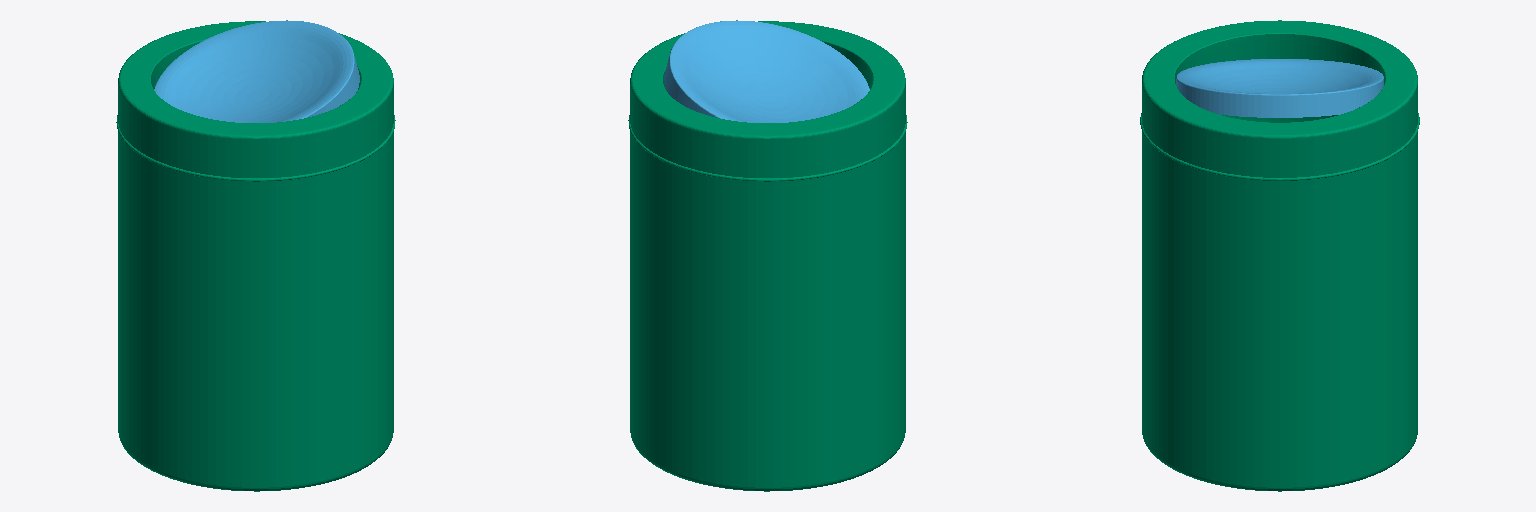
URDF robot description (partnet_1b7d468a27208ee3dad910e221d16b18):
<?xml version="1.0" ?>
<robot name="partnet_1b7d468a27208ee3dad910e221d16b18">
	<link name="base"/>
	<link name="link_0">
		<visual name="cover_lid-5">
			<origin xyz="0.011088999999999988 -0.7329289999999999 0"/>
			<geometry>
				<mesh filename="textured_objs/original-2.obj"/>
			</geometry>
		</visual>
		<visual name="cover_support-6">
			<origin xyz="0.011088999999999988 -0.7329289999999999 0"/>
			<geometry>
				<mesh filename="textured_objs/original-1.obj"/>
			</geometry>
		</visual>
		<collision>
			<origin xyz="0.011088999999999988 -0.7329289999999999 0"/>
			<geometry>
				<mesh filename="textured_objs/original-2.obj"/>
			</geometry>
		</collision>
		<collision>
			<origin xyz="0.011088999999999988 -0.7329289999999999 0"/>
			<geometry>
				<mesh filename="textured_objs/original-1.obj"/>
			</geometry>
		</collision>
	</link>
	<joint name="joint_0" type="revolute">
		<origin xyz="-0.011088999999999988 0.7329289999999999 0"/>
		<axis xyz="1 0 0"/>
		<child link="link_0"/>
		<parent link="link_1"/>
		<limit lower="-1.8221237390820801" upper="1.2252211349000193"/>
	</joint>
	<link name="link_1">
		<visual name="container_box-3">
			<origin xyz="0 0 0"/>
			<geometry>
				<mesh filename="textured_objs/new-1.obj"/>
			</geometry>
		</visual>
		<visual name="container_bottom-4">
			<origin xyz="0 0 0"/>
			<geometry>
				<mesh filename="textured_objs/new-0.obj"/>
			</geometry>
		</visual>
		<collision>
			<origin xyz="0 0 0"/>
			<geometry>
				<mesh filename="textured_objs/new-1.obj"/>
			</geometry>
		</collision>
		<collision>
			<origin xyz="0 0 0"/>
			<geometry>
				<mesh filename="textured_objs/new-0.obj"/>
			</geometry>
		</collision>
	</link>
	<joint name="joint_1" type="fixed">
		<origin rpy="1.570796326794897 0 -1.570796326794897" xyz="0 0 0"/>
		<child link="link_1"/>
		<parent link="base"/>
	</joint>
</robot>

--- What the picture shows (computed from the rendered views, not written in the file) ---
The picture shows the robot from 3 angles, left to right: view 1: azimuth 30°, elevation 25°; view 2: azimuth 150°, elevation 25°; view 3: azimuth 270°, elevation 25°; orthographic projection.
Model partnet_1b7d468a27208ee3dad910e221d16b18 with 3 links and 2 joints (1 revolute, 1 fixed), rooted at base, posed all joints at 0.
Links seen in each view (by area): view 1: link_1, link_0; view 2: link_1, link_0; view 3: link_1, link_0.
Boxes of the visible links, left/top/right/bottom form: link_1: left=116, top=21, right=395, bottom=491; link_0: left=154, top=20, right=359, bottom=122; link_1: left=628, top=21, right=907, bottom=491; link_0: left=664, top=20, right=869, bottom=122; link_1: left=1140, top=20, right=1419, bottom=491; link_0: left=1176, top=59, right=1383, bottom=117.
Bounding box of the posed robot: 1.15 × 1.15 × 1.73 m (x, y, z).
4 mesh visuals loaded from 4 distinct referenced files (4 OBJ).
